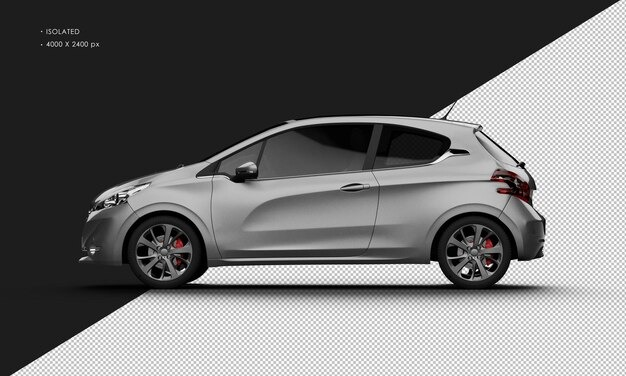car: (78, 110, 542, 287)
